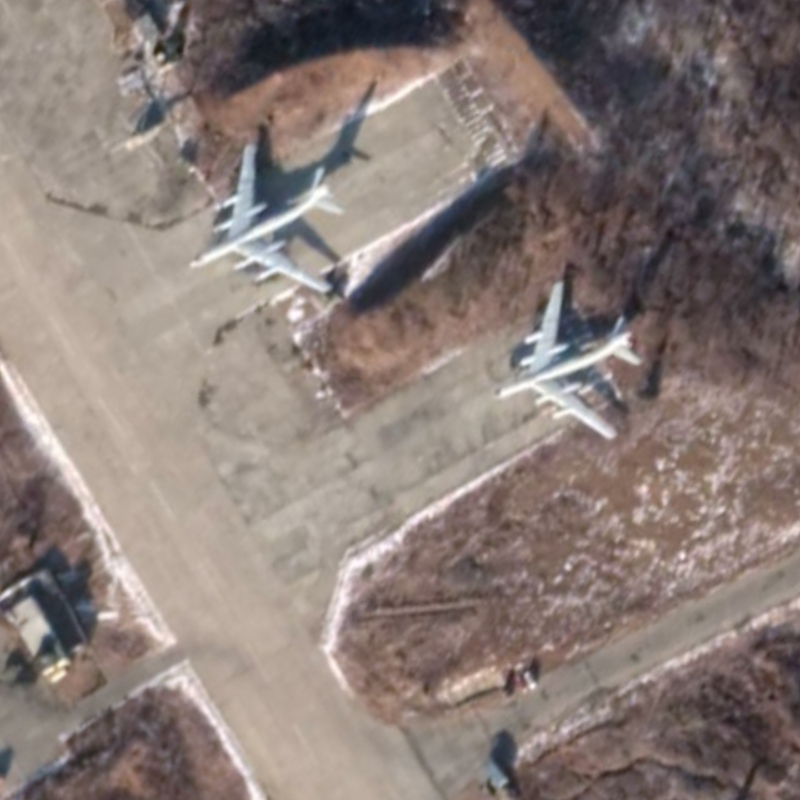A17: (186, 140, 350, 297), (489, 277, 644, 443)
